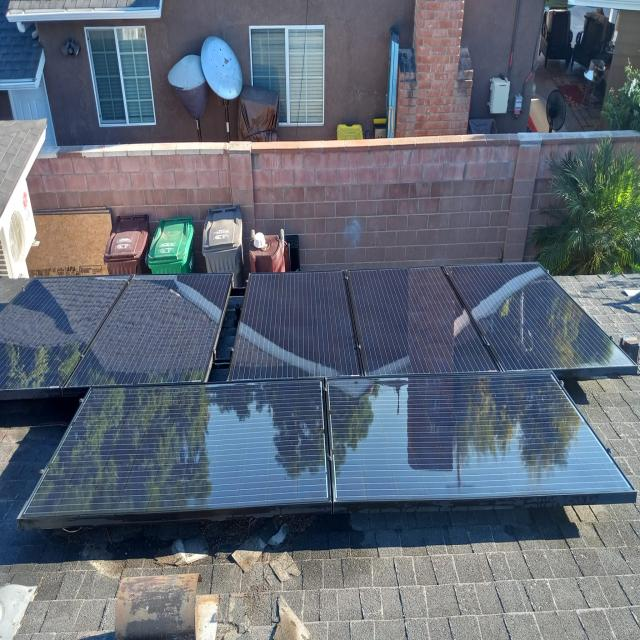clean-solar-panel: (19, 371, 636, 529), (229, 262, 636, 380), (0, 273, 231, 400)
